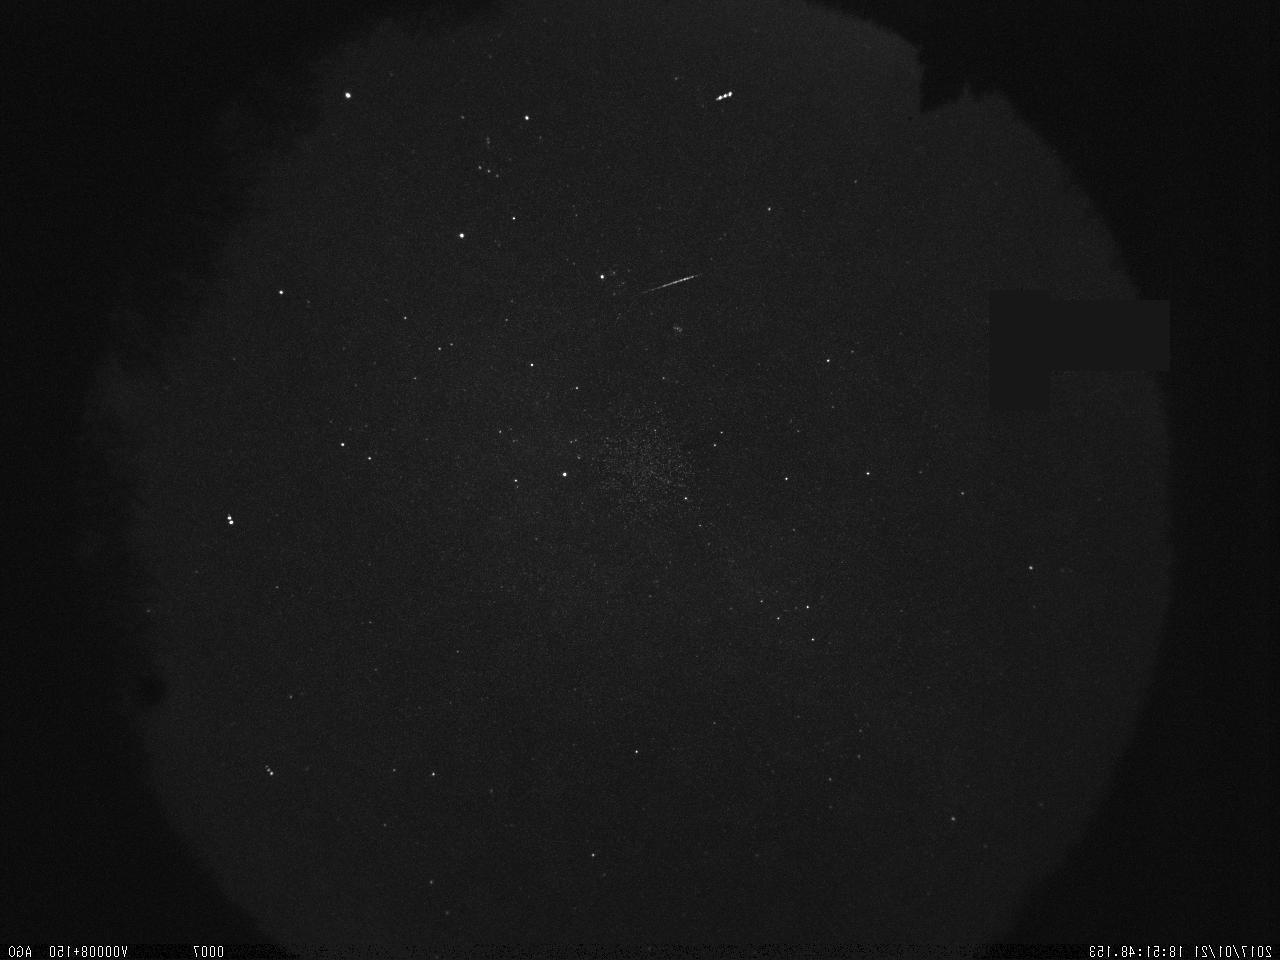meteor: (616, 248, 729, 322)
